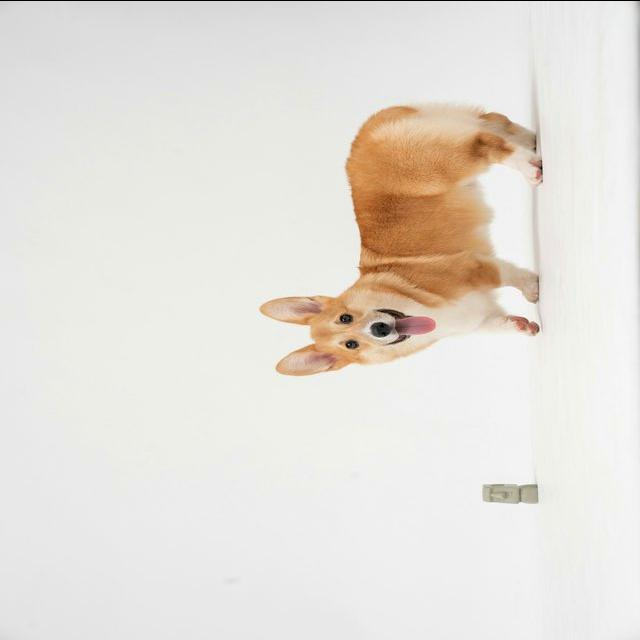corgi: (258, 102, 543, 377)
